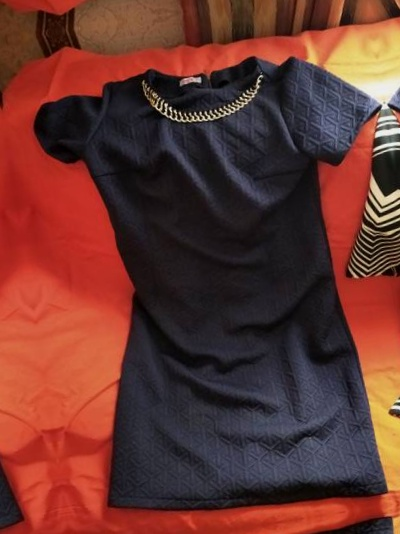Dress: (22, 36, 400, 534), (0, 95, 47, 534), (97, 511, 400, 534), (399, 0, 400, 482)
